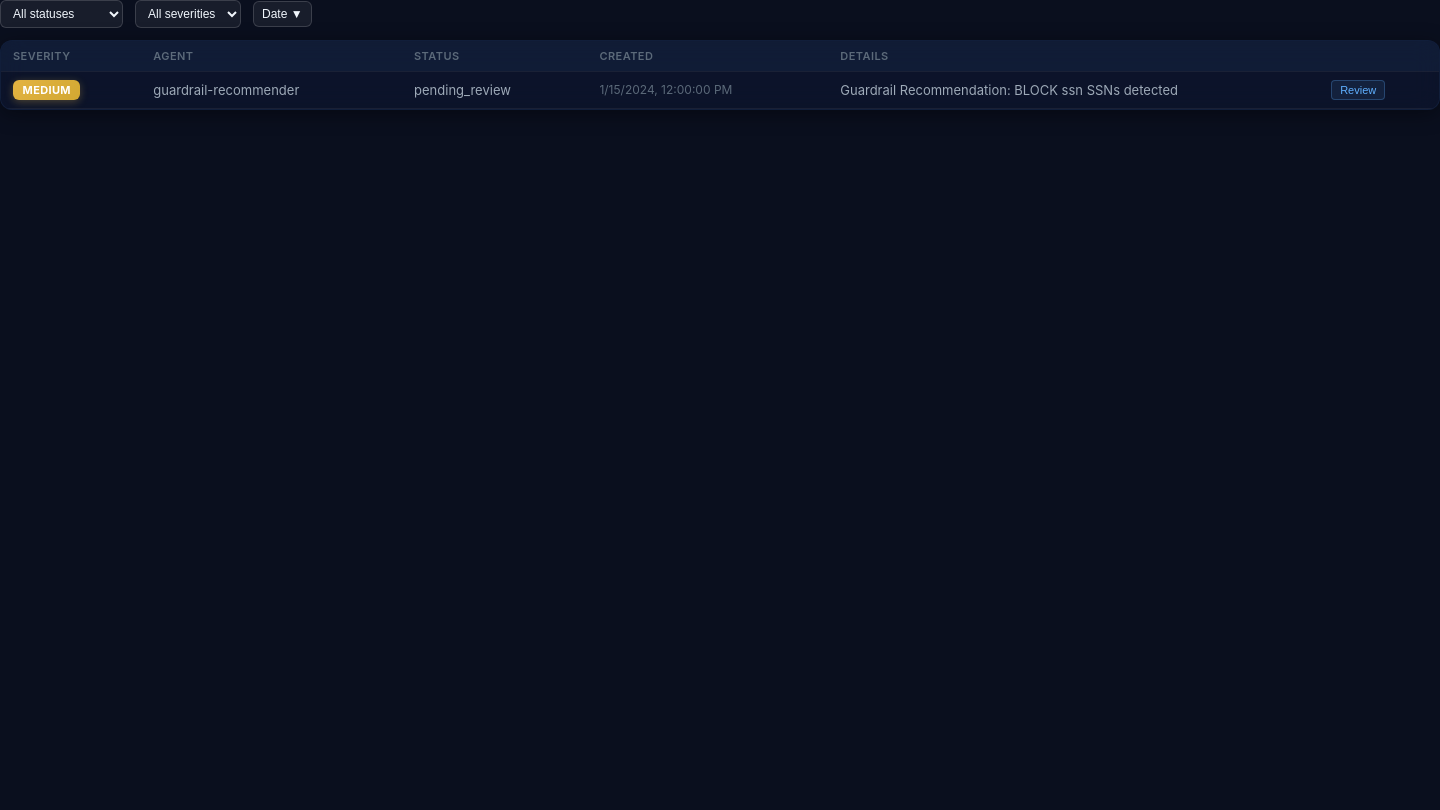
Scenario: FindingsTable › clicking a guardrail-recommender row opens the Approve/Reject/Cancel popup, not the raw-data modal
Click the text "guardrail-recommender" at [272, 90], box top-left (141, 71), bottom-right (402, 108)
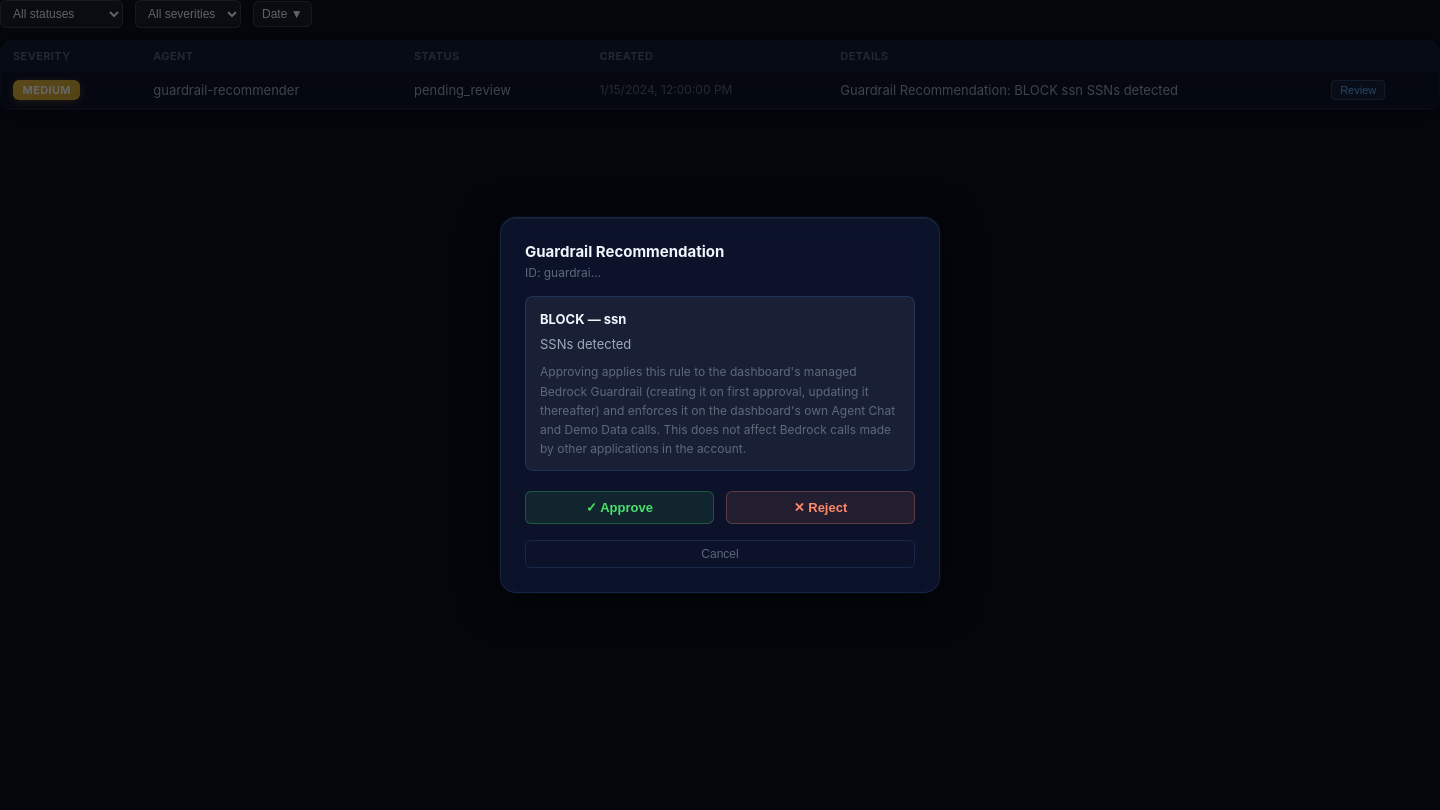
Result: the heading "Guardrail Recommendation" is shown at top-left (525, 242), bottom-right (724, 261)
Result: the button "✓ Approve" is shown at top-left (525, 491), bottom-right (714, 524)
Result: the button "✕ Reject" is shown at top-left (726, 491), bottom-right (915, 524)
